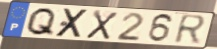2: (116, 11, 145, 42)
6: (147, 13, 177, 44)
Q: (24, 7, 58, 37)
R: (172, 13, 209, 46)
X: (53, 8, 91, 39), (84, 9, 120, 41)
